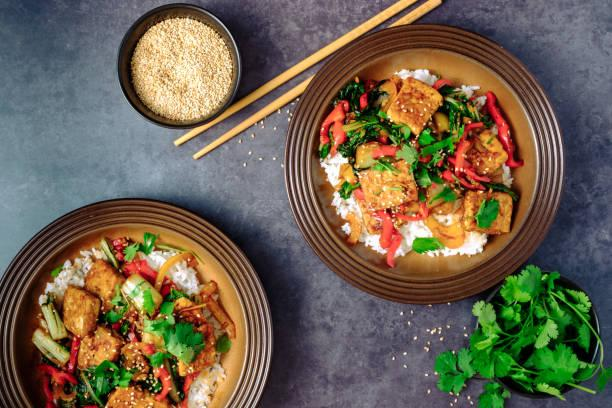Braised Crucian Carp: (283, 23, 560, 305), (0, 198, 272, 407)
